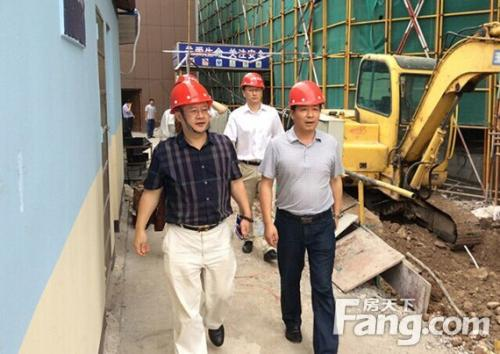boots: (208, 323, 224, 347), (285, 325, 302, 342), (263, 249, 278, 263), (242, 240, 253, 253)
hard-hat: (169, 77, 213, 113), (288, 80, 325, 108), (240, 72, 265, 90)
person: (133, 76, 254, 354), (257, 79, 345, 353), (222, 72, 286, 263)
